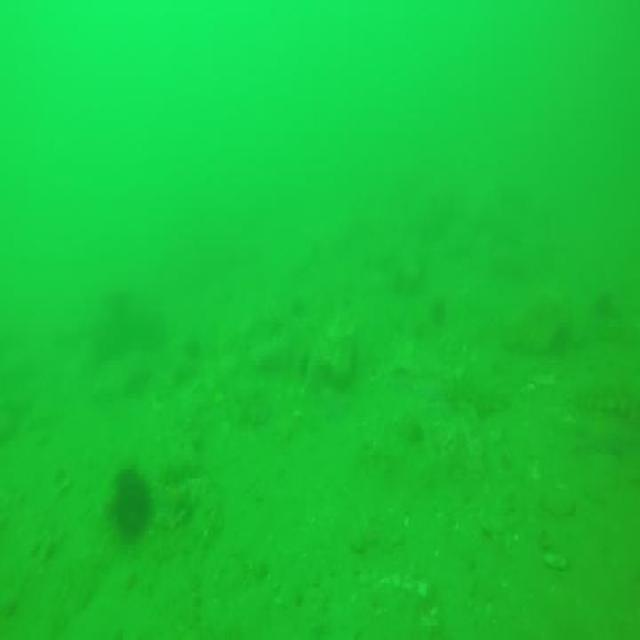echinus: (111, 466, 152, 541)
holothurian: (443, 368, 511, 412), (572, 376, 640, 420)
